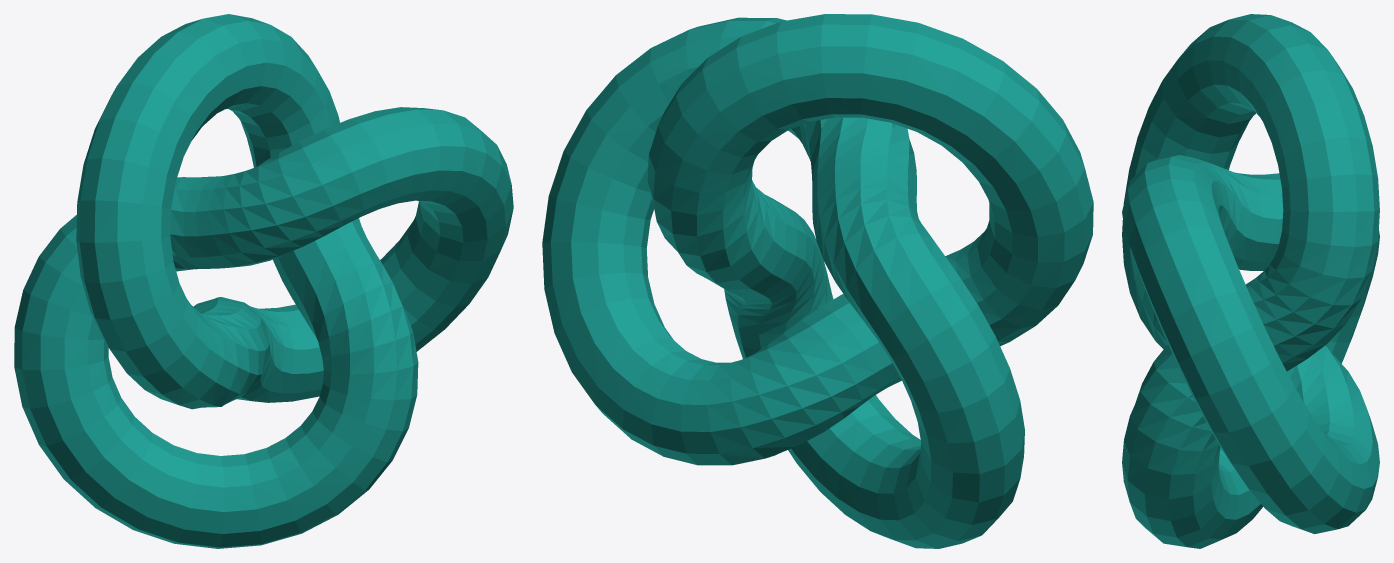
File: sample.fbx
The picture shows the model from 3 angles, left to right: view 1: azimuth 30°, elevation 25°; view 2: azimuth 150°, elevation 25°; view 3: azimuth 270°, elevation 25°; orthographic projection. The views are drawn at different scales.
Parts seen in each view (by area): view 1: knot; view 2: knot; view 3: knot.
Boxes of the visible parts, bbox=[...] form: knot: bbox=[14, 14, 513, 548]; knot: bbox=[542, 14, 1093, 548]; knot: bbox=[1122, 14, 1379, 548].
Bounding box in the file's own units: 98.37 × 102 × 47.99.
